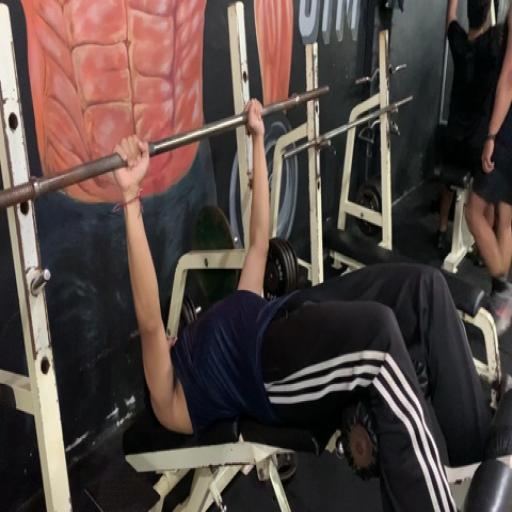exercise: (109, 96, 511, 510)
